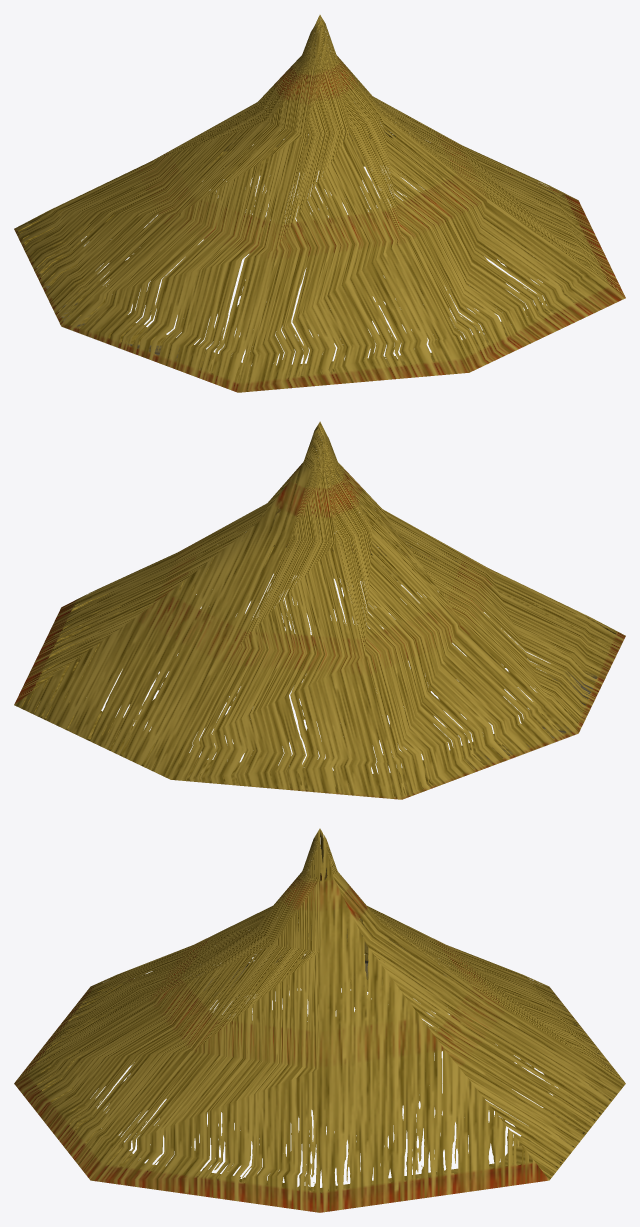
The model's file is SM_Hat4.fbx.
3 views of the same model, one above another, from view 1: azimuth 30°, elevation 25°; view 2: azimuth 150°, elevation 25°; view 3: azimuth 270°, elevation 25° (orthographic). The views are drawn at different scales.
Parts seen in each view (by area): view 1: SM_Hat4; view 2: SM_Hat4; view 3: SM_Hat4.
Part boxes in pixels (x1,y1,x2,y2): SM_Hat4: (14,15,625,392); SM_Hat4: (14,421,625,799); SM_Hat4: (14,828,625,1212).
Bounding box in the file's own units: 2.29 × 1.07 × 2.29.
1 material, 1 textured.
